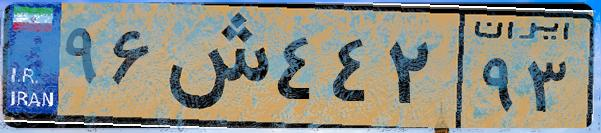2: (385, 28, 445, 110)
3: (525, 38, 570, 115)
4: (270, 28, 330, 110), (330, 28, 385, 110)
6: (110, 28, 158, 98)
9: (57, 26, 110, 100), (475, 38, 525, 113)
ش: (158, 12, 270, 120)
